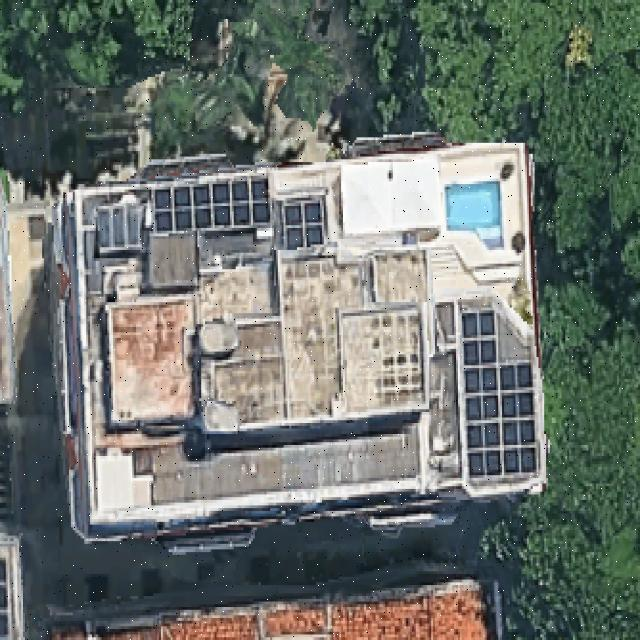painel: (458, 302, 540, 486), (148, 170, 272, 241), (282, 192, 327, 257)
